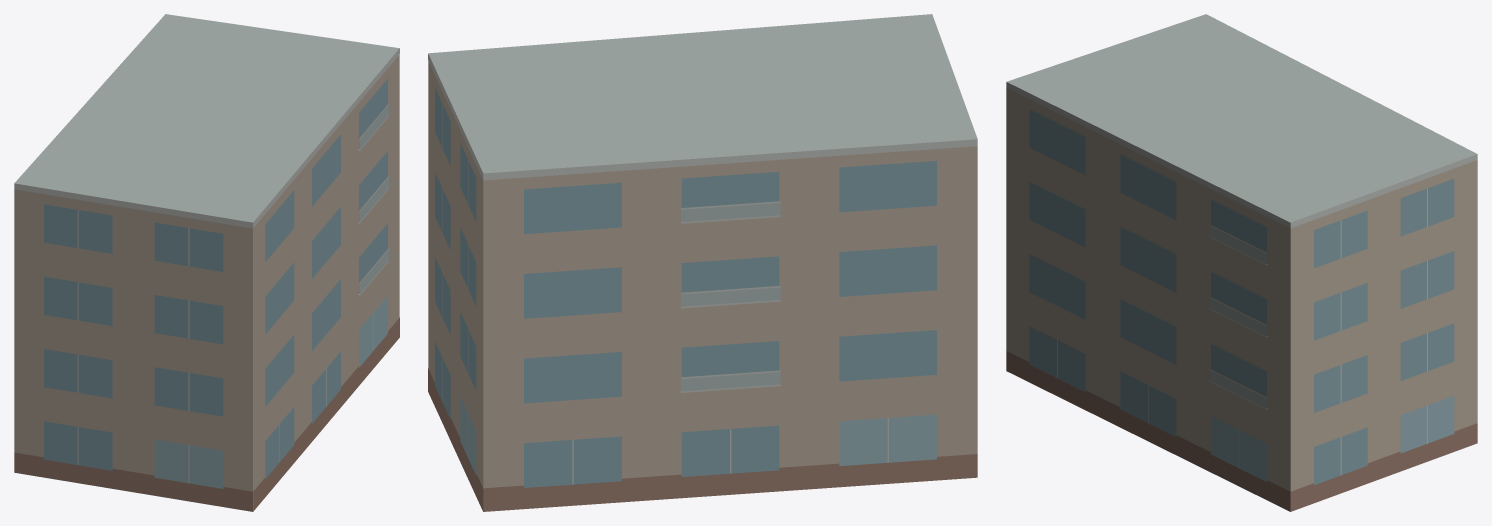
Rendered from survey-upis-32839562.glb.
3 renders of one model, left to right at view 1: azimuth 30°, elevation 25°; view 2: azimuth 150°, elevation 25°; view 3: azimuth 270°, elevation 25°, orthographic. The views are drawn at different scales.
Parts seen in each view (by area): view 1: survey-upis-32839562.tmp; view 2: survey-upis-32839562.tmp; view 3: survey-upis-32839562.tmp.
Boxes of the visible parts, x1,y1,x2,y2 form: survey-upis-32839562.tmp: (14,14,399,511); survey-upis-32839562.tmp: (428,14,977,511); survey-upis-32839562.tmp: (1006,14,1477,511).
Size of the model in its own units: 18.58 by 12 by 17.73.
